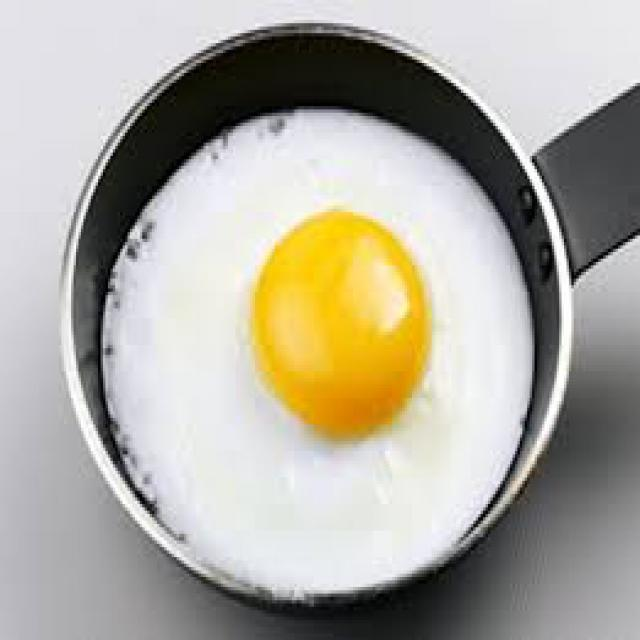Fried Egg: (109, 111, 538, 593)
